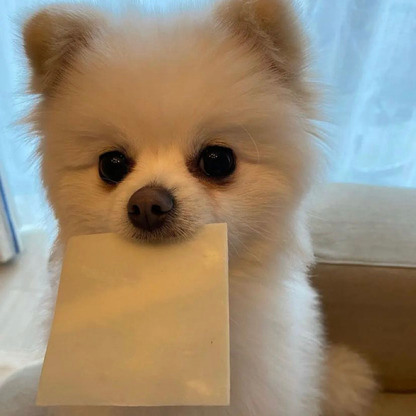Pomeranian: (24, 8, 341, 399)
